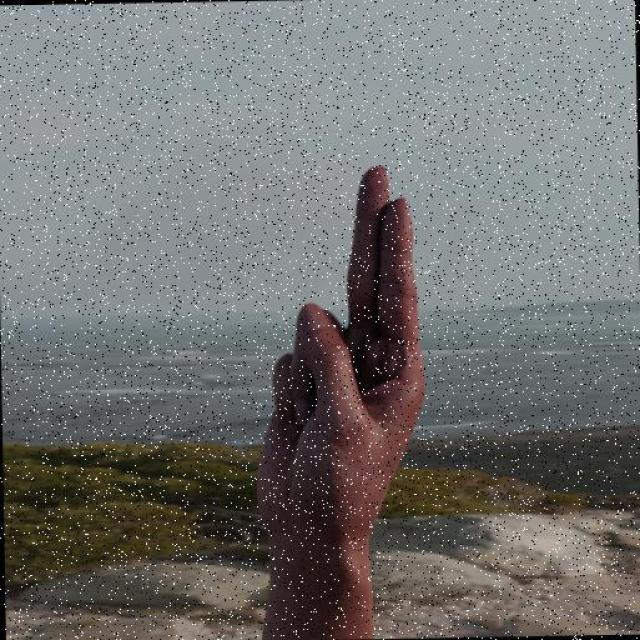U: (245, 159, 432, 542)
